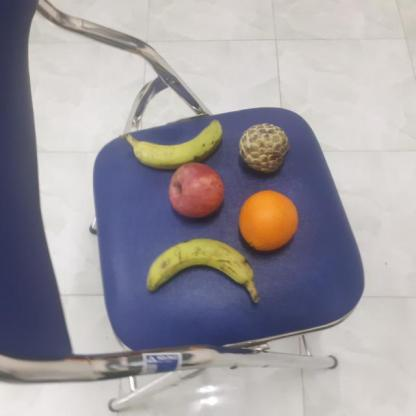apple: (132, 116, 228, 173), (164, 162, 229, 220)
banana: (146, 236, 256, 296)
orange: (236, 188, 303, 253)
